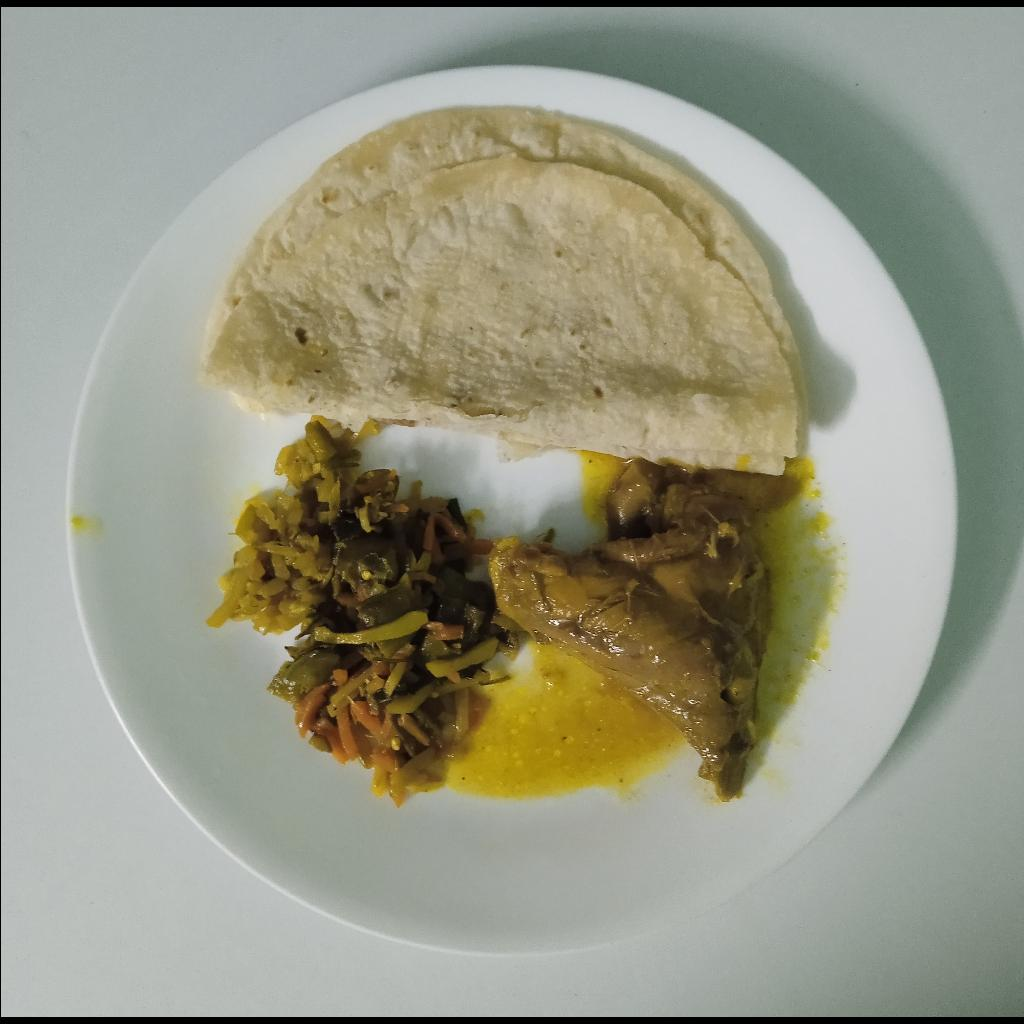chicken: (491, 463, 770, 805)
ruti: (198, 108, 809, 476)
vegetable: (203, 421, 509, 802)
